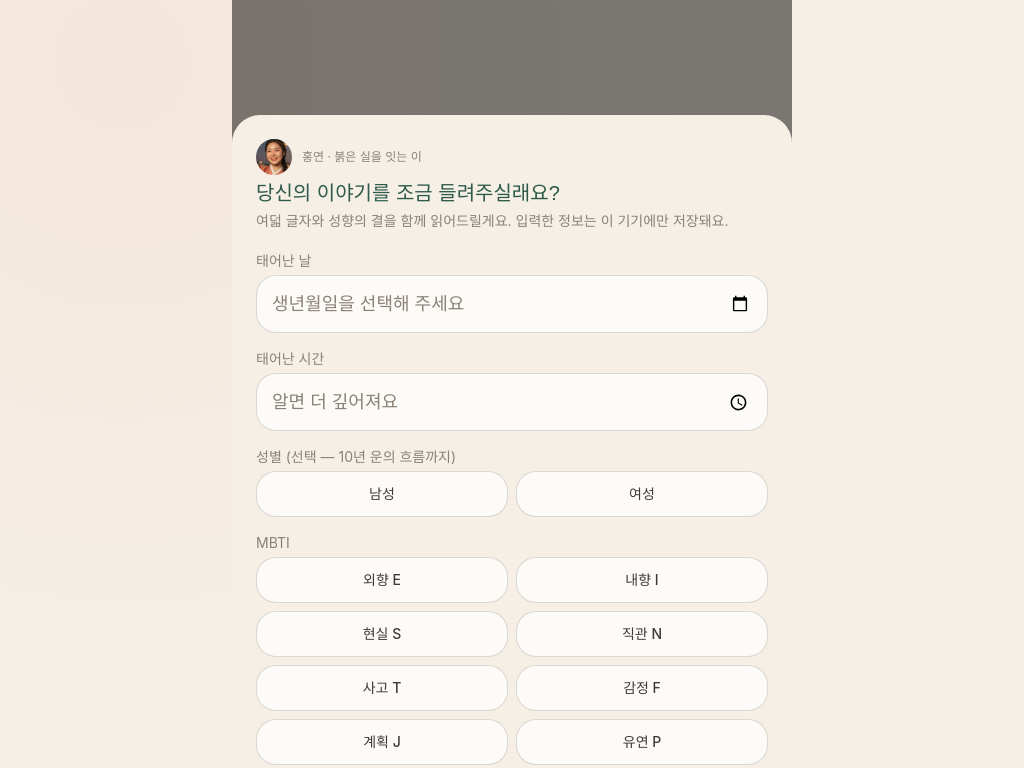
Test: GuestReadingView — 게스트 총운/사주상품 뷰 (입력 시트 관문) › 시트 제출 — draft 저장 후 그 값으로 계산한다
The image size is (1024, 768).
Type "1995-08-20" into the date field at (512, 304), box [256,275,768,333]
Click the button "외향 E" at (382, 580), box [256,557,508,603]
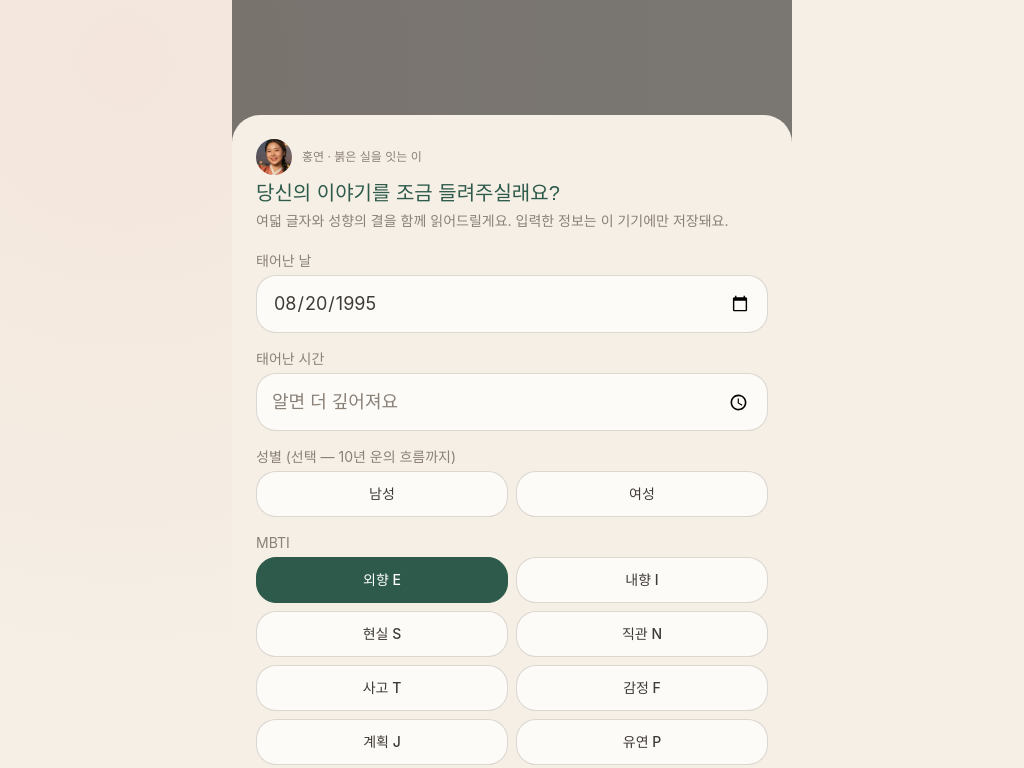
Click the button "직관 N" at (642, 634), box [516,611,768,657]
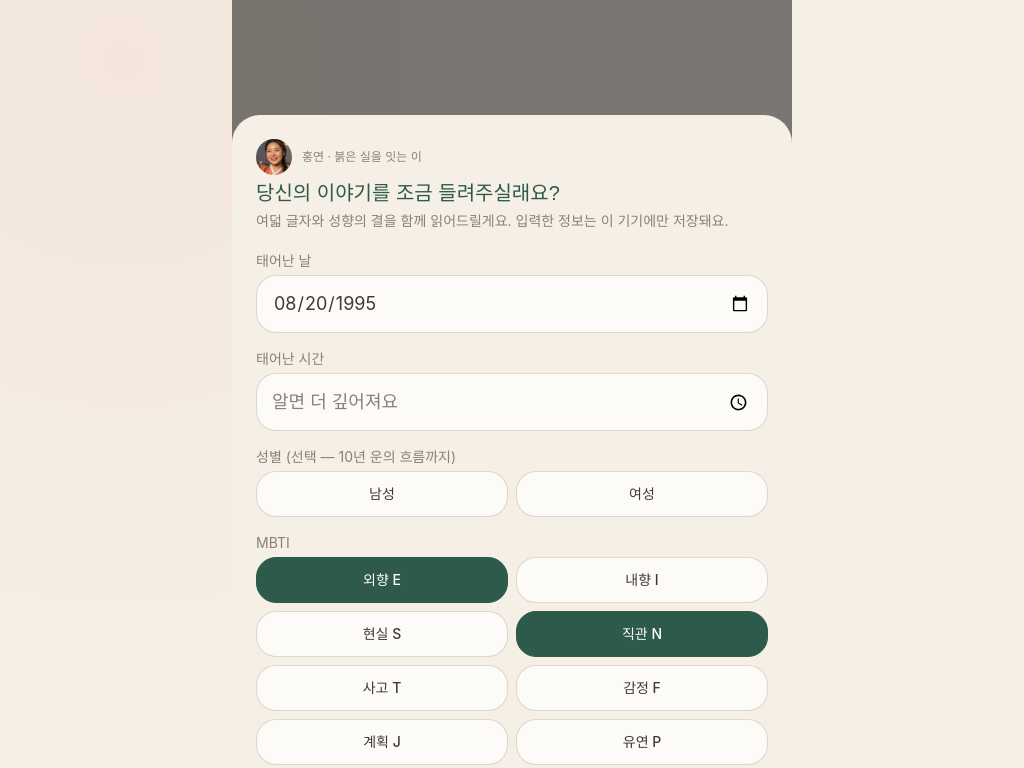
Click the button "감정 F" at (642, 688), box [516,665,768,711]
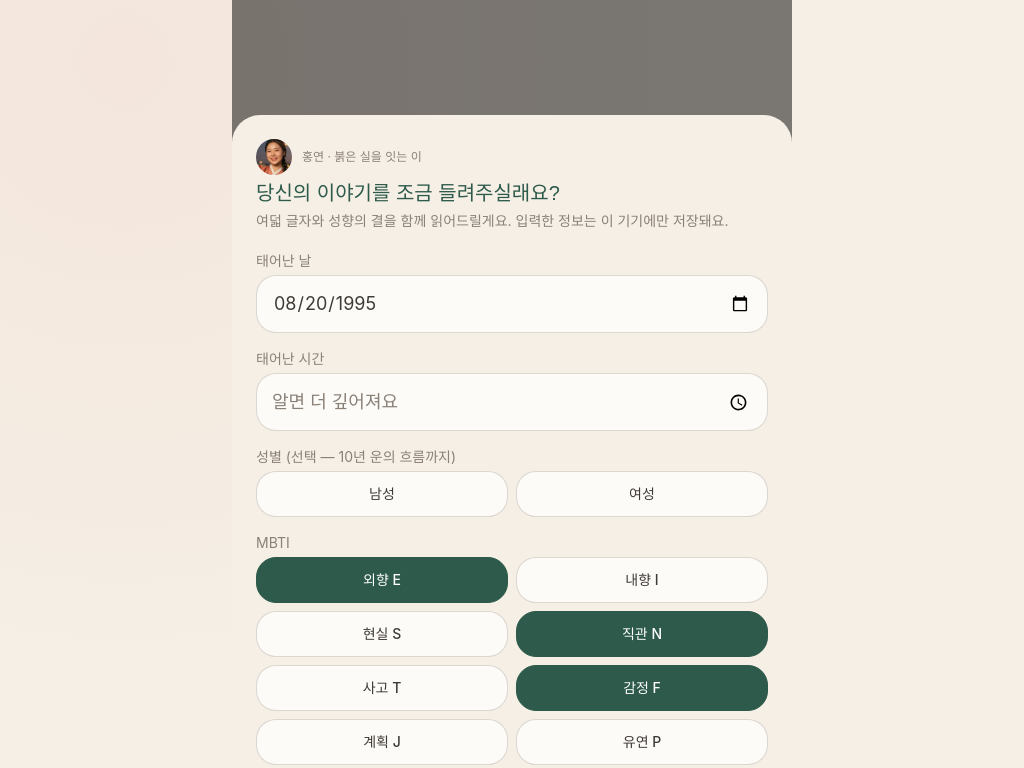
Click the button "유연 P" at (642, 742), box [516,719,768,765]
(page scrolled)
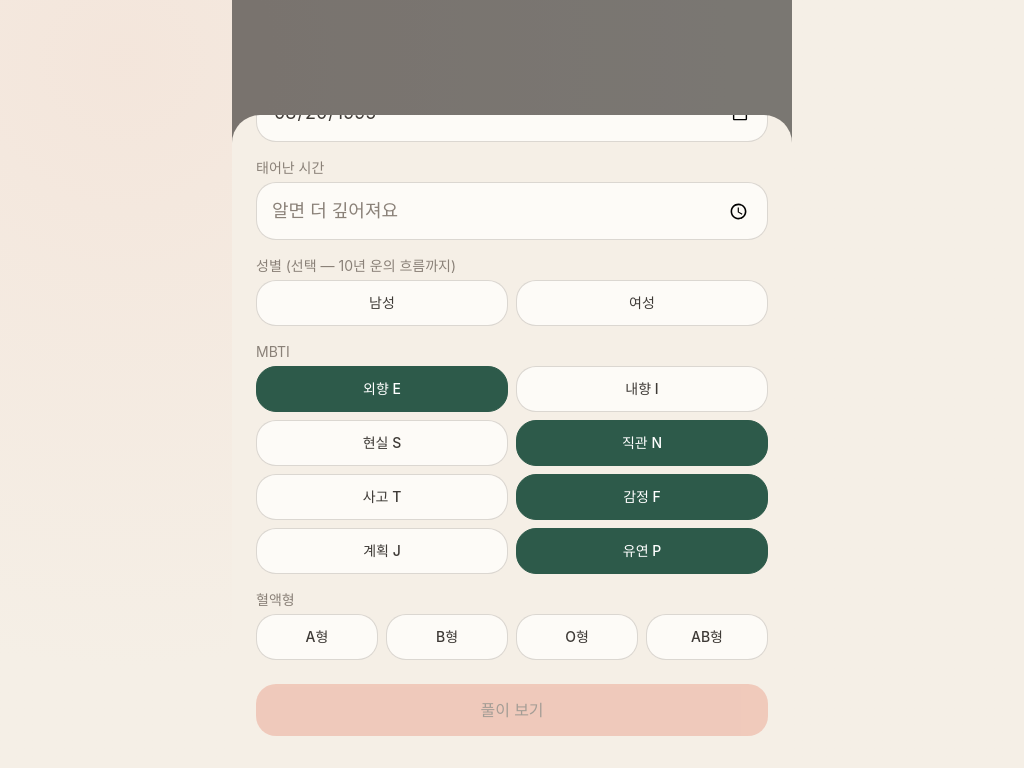
Click the button "A형" at (317, 637), box [256,614,378,660]
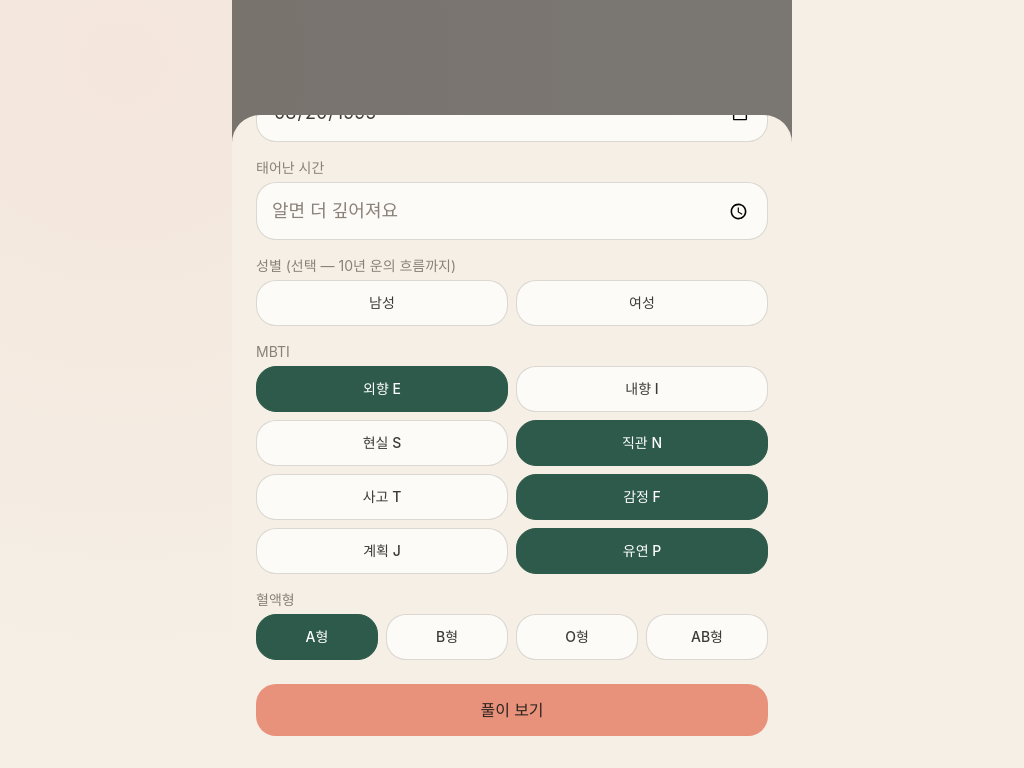
Click the button "풀이 보기" at (512, 710), box [256,684,768,736]
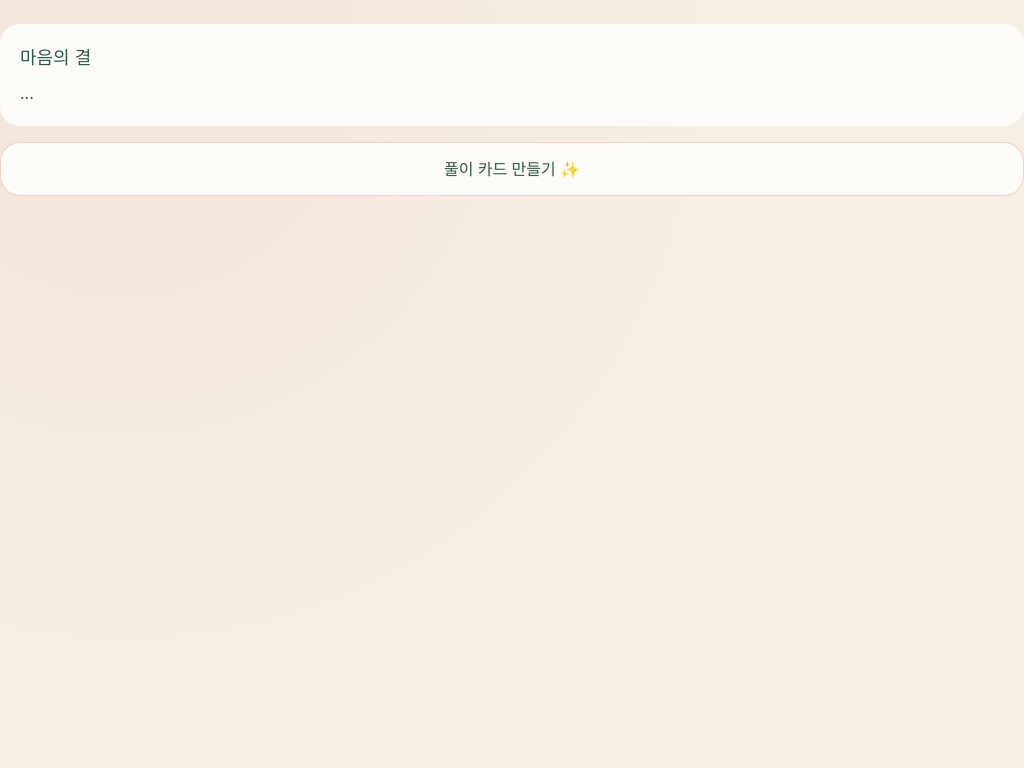
Expected: the heading "마음의 결" is shown, [20,48,91,68]
